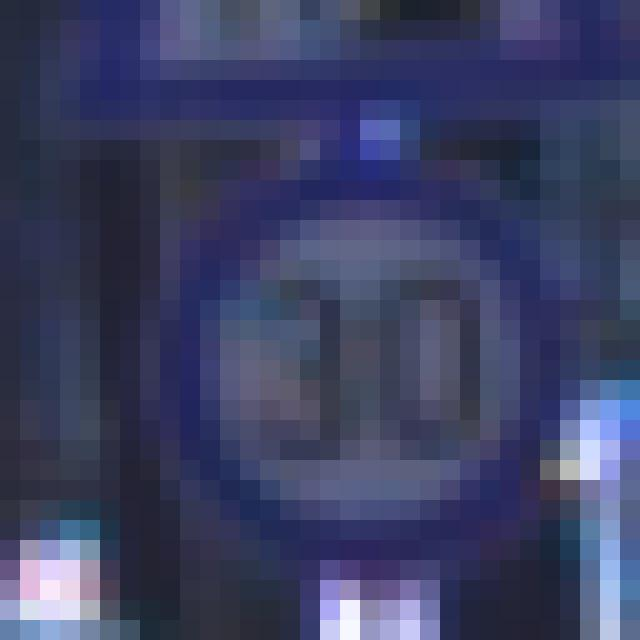SPEED LIMIT 30: (185, 182, 548, 530)
